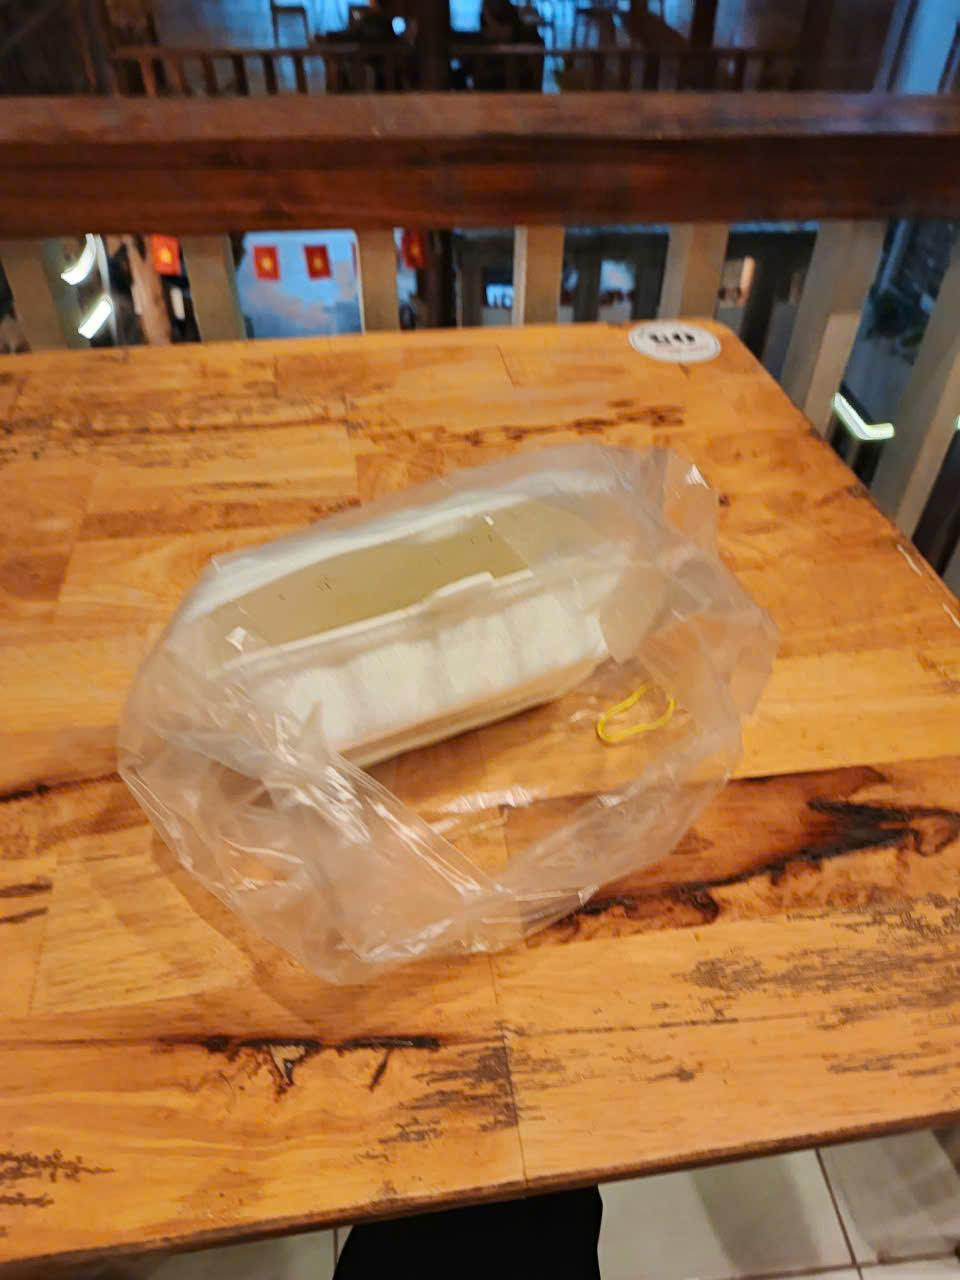Con lai: (130, 445, 768, 965)
